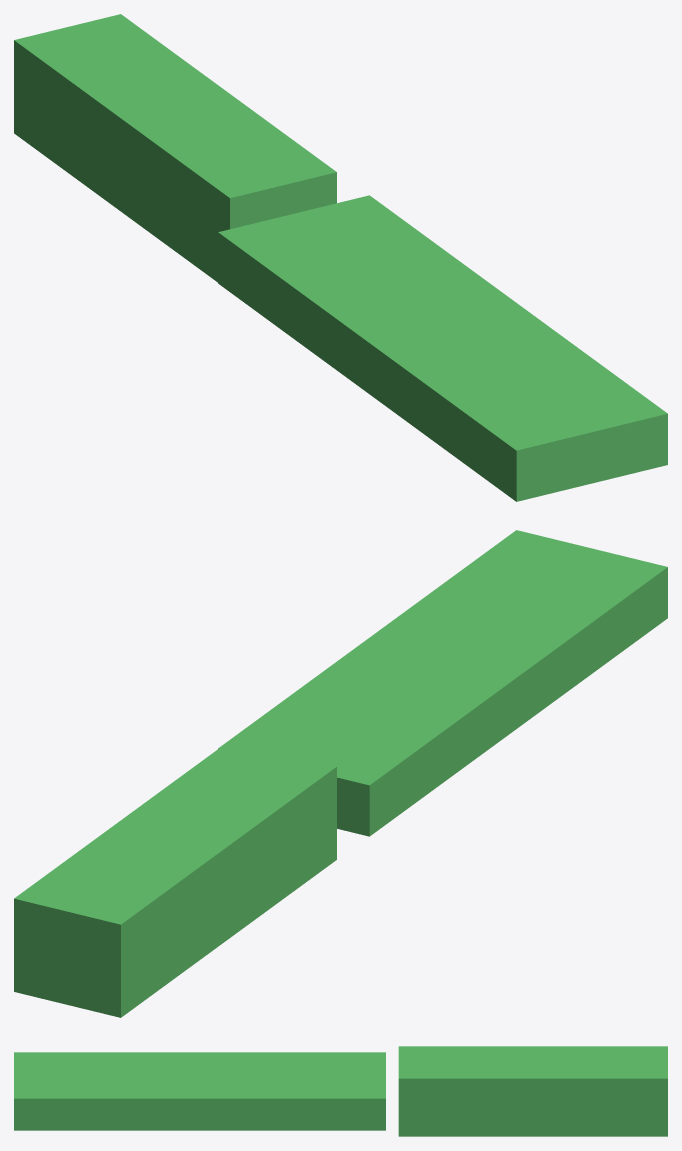
The model's file is short_blade_collision.glb.
3 renders of one model, top to bottom at view 1: azimuth 30°, elevation 25°; view 2: azimuth 150°, elevation 25°; view 3: azimuth 270°, elevation 25°, orthographic. The views are drawn at different scales.
Parts seen in each view (by area): view 1: short_blade-col-blade, short_blade-col-grip; view 2: short_blade-col-blade, short_blade-col-grip; view 3: short_blade-col-blade, short_blade-col-grip.
Boxes of the visible parts, x1,y1,x2,y2 form: short_blade-col-blade: (218, 195, 667, 501); short_blade-col-grip: (14, 14, 336, 282); short_blade-col-blade: (218, 530, 667, 836); short_blade-col-grip: (14, 740, 336, 1017); short_blade-col-blade: (14, 1052, 385, 1130); short_blade-col-grip: (398, 1046, 667, 1136).
Bounding box in the file's own units: 0.17 × 0.1 × 1.02.
